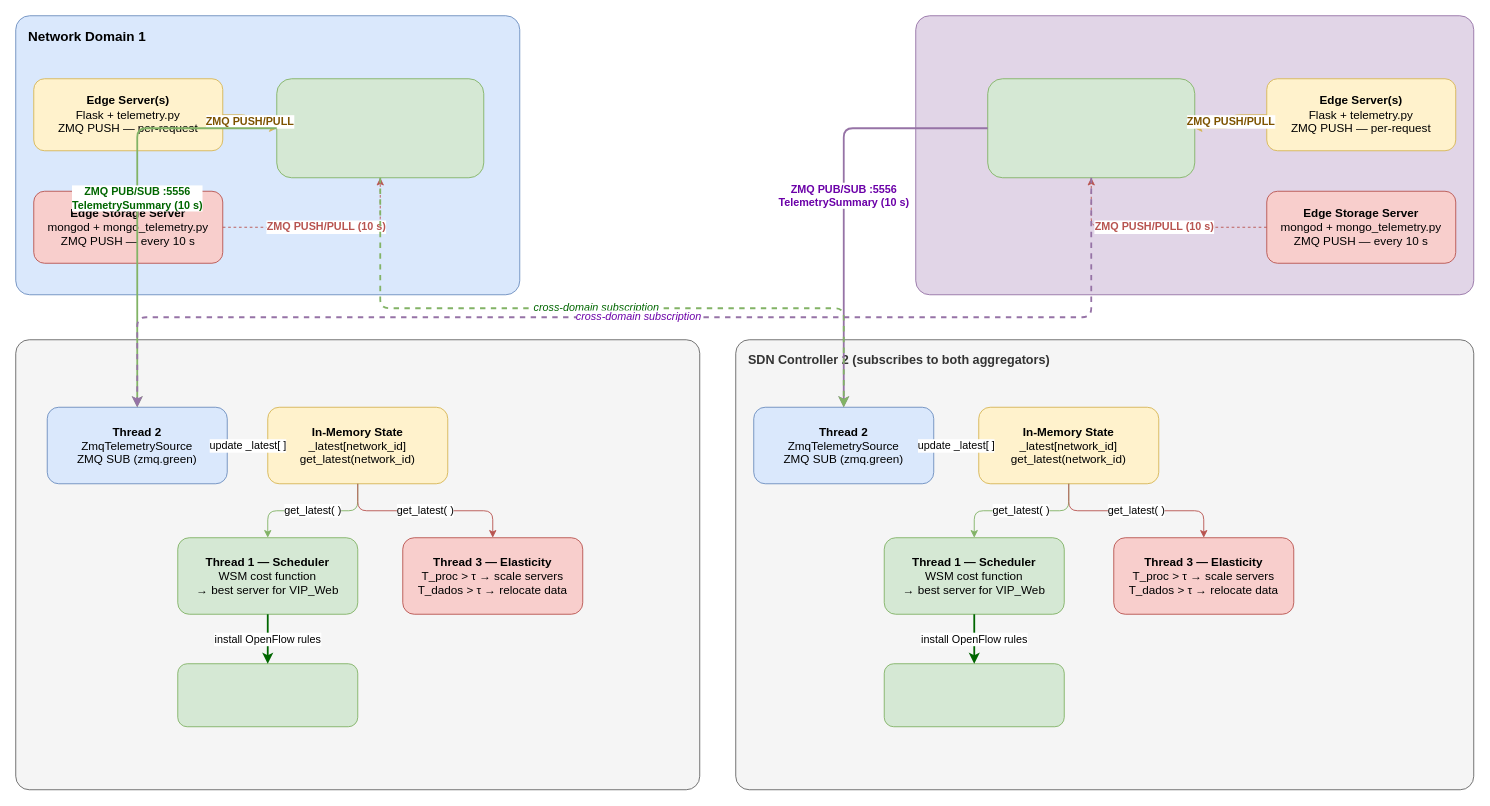
The diagram is 1490 pixels wide and 806 high, and some of its shapes have lost their labels. The box of each missing label's shape, as (x1, y1, x2, y2) in pixels:
Aggregator (net1) PULL :5555 / PUB :5556 window = 10 s → TelemetrySummary JSON: (276, 78, 484, 178)
Aggregator (net2) PULL :5555 / PUB :5556 window = 10 s → TelemetrySummary JSON: (987, 78, 1195, 178)
Network Domain 2: (915, 15, 1474, 295)
OVS Switch (net1) OpenFlow DNAT/SNAT: (177, 663, 358, 727)
OVS Switch (net2) OpenFlow DNAT/SNAT: (883, 663, 1064, 727)
SDN Controller 1 (subscribes to both aggregators): (15, 339, 700, 790)
